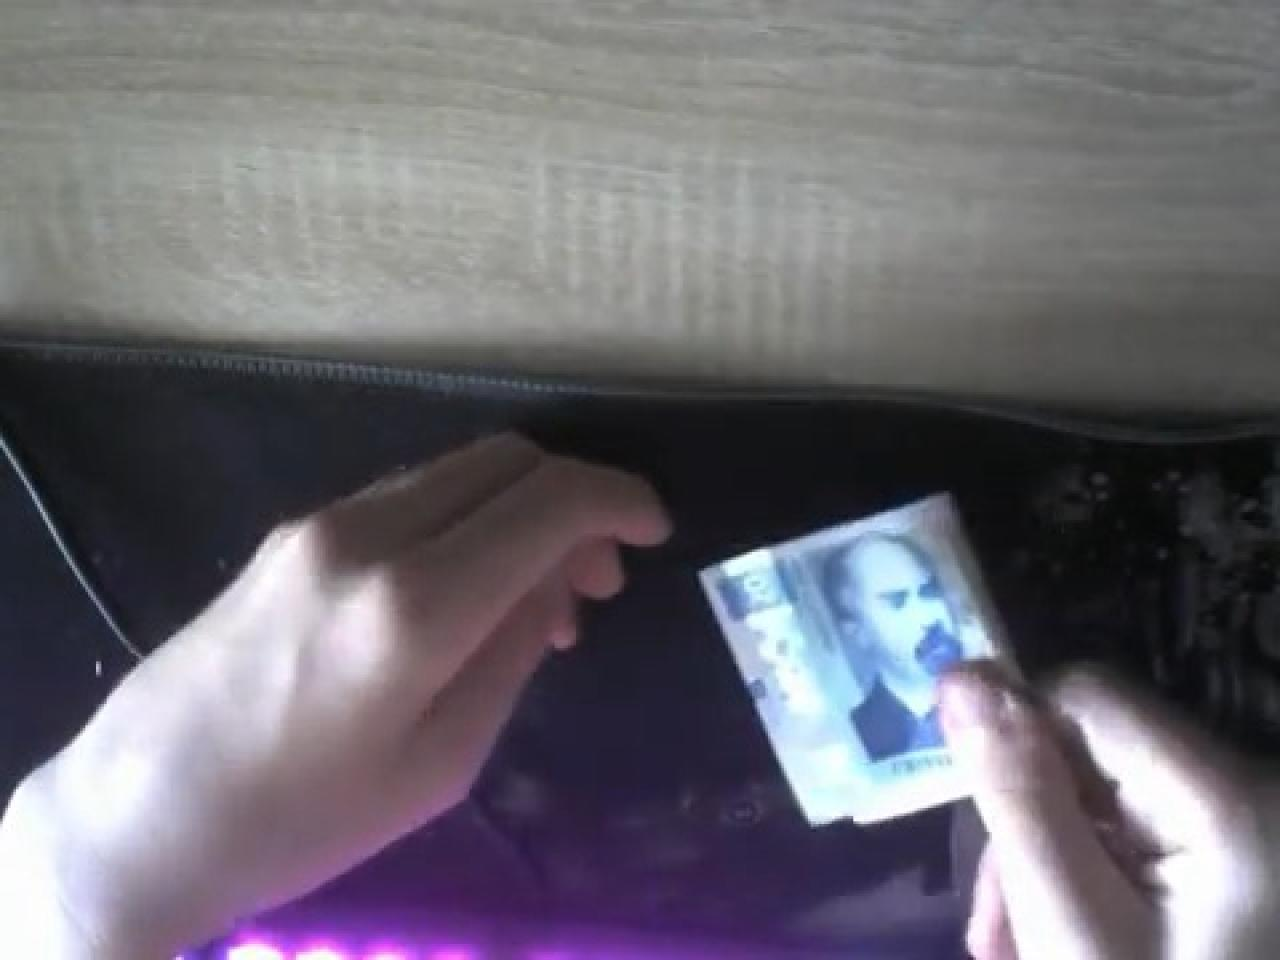20leva: (690, 485, 1032, 832)
